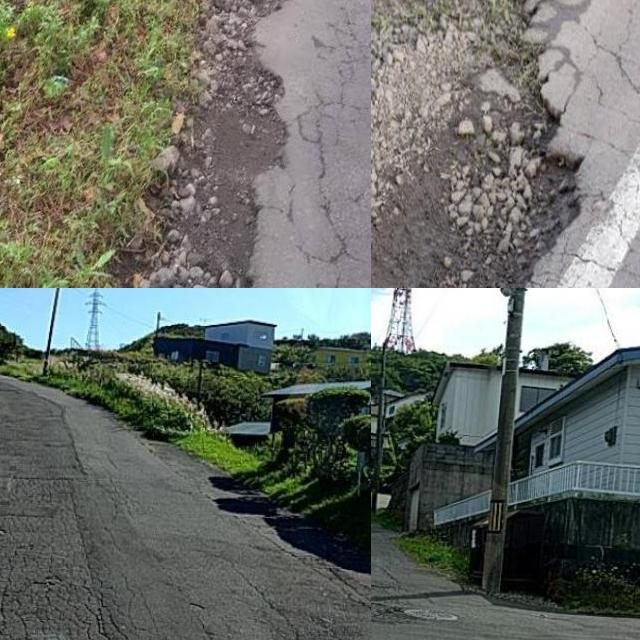Pinggir: (371, 0, 611, 288), (184, 0, 306, 288)
Retak Buaya: (0, 524, 114, 640)
